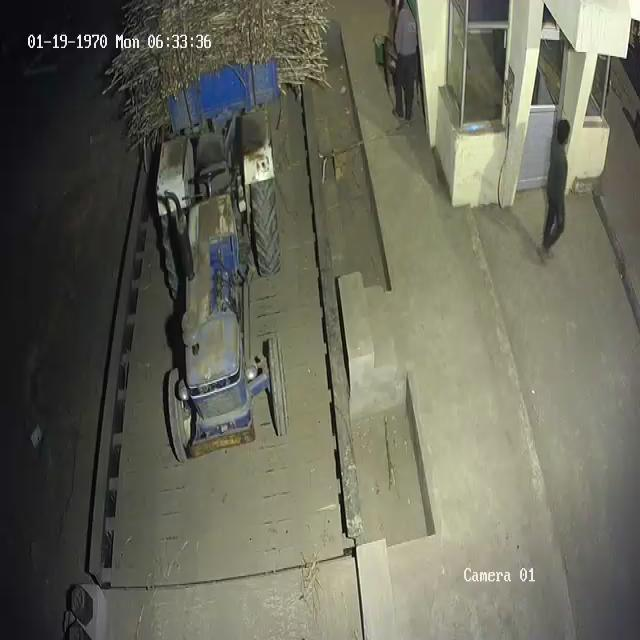Tratores - v5 YOLO V8L 2024-11-13: (154, 132, 285, 458)
